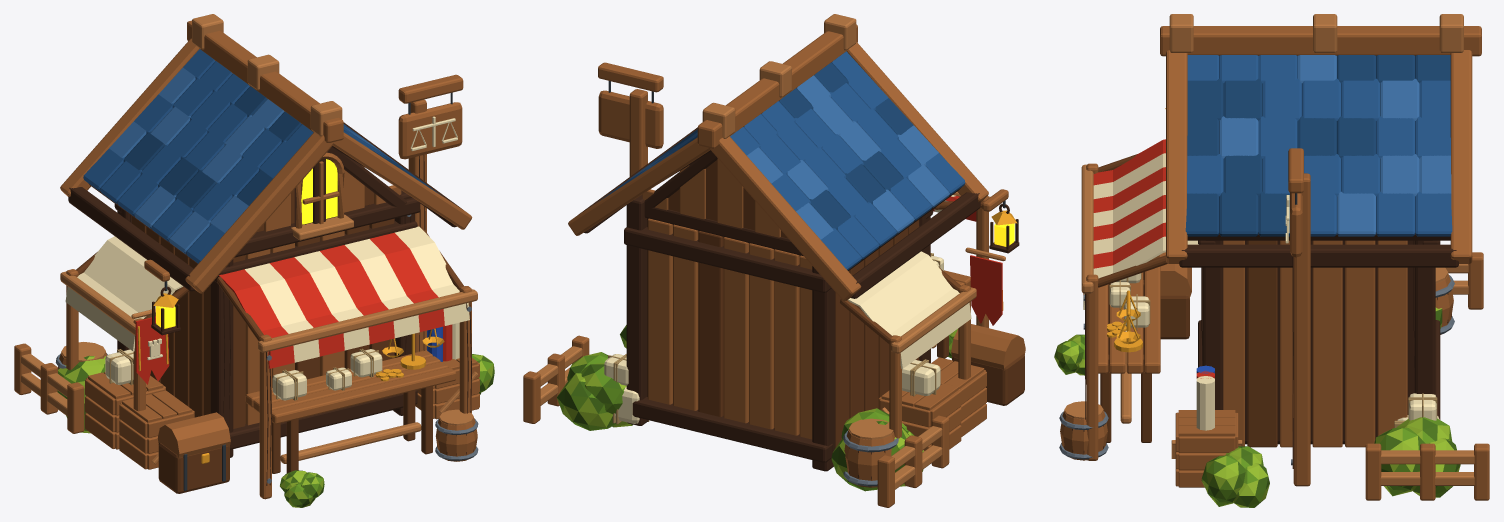
File: trade_market.glb
3 renders of one model, left to right at view 1: azimuth 30°, elevation 25°; view 2: azimuth 150°, elevation 25°; view 3: azimuth 270°, elevation 25°, orthographic. The views are drawn at different scales.
Visible parts, largest first — view 1: Linen work canopy, Carved roof verge, Ridge timber, Corner upright, Roof eave, Awning front beam, Table top plank, Carved roof verge.002, Carved hanging sign, Carved roof verge.001, Canvas canopy stripe.002, Canvas canopy stripe.001 (+90 smaller); view 2: Linen work canopy, Carved roof verge.001, Wall cross beam.003, Wall timber board.003, Wall timber board.009, Wall timber board.005, Wall timber board.007, Wall timber board.013, Wall timber board.011, Wall cross beam.001, Corner upright.001, Ridge timber (+74 smaller); view 3: Ridge timber, Roof eave.001, Side timber board.007, Side timber board.003, Side timber board.009, Side timber board.011, Trade sign post, Carved roof verge.003, Carved roof verge.002, Cottage walls, Side timber board.001, Corner upright.003 (+85 smaller).
Boxes of the visible parts, x1,y1,x2,y2 form: Linen work canopy: (65,236,183,351); Carved roof verge: (185,132,333,293); Ridge timber: (187,20,343,142); Corner upright: (210,259,233,457); Roof eave: (68,187,195,291); Awning front beam: (258,289,477,352); Table top plank: (272,367,456,424); Carved roof verge.002: (333,132,472,229); Carved hanging sign: (398,102,462,159); Carved roof verge.001: (60,38,199,196); Canvas canopy stripe.002: (269,257,344,356); Canvas canopy stripe.001: (245,263,319,362); Linen work canopy: (848,251,971,368); Carved roof verge.001: (710,136,861,301); Wall cross beam.003: (624,227,831,292); Wall timber board.003: (774,249,799,435); Wall timber board.009: (698,231,723,416); Wall timber board.005: (749,243,774,429); Wall timber board.007: (723,237,748,423); Wall timber board.013: (647,218,672,404); Wall timber board.011: (673,224,698,410); Wall cross beam.001: (632,397,832,462); Corner upright.001: (812,266,835,471); Ridge timber: (697,24,857,148); Ridge timber: (1160,26,1481,56); Roof eave.001: (1179,244,1458,267); Side timber board.007: (1312,240,1342,447); Side timber board.003: (1247,240,1277,447); Side timber board.009: (1345,240,1375,447); Side timber board.011: (1377,240,1407,435); Trade sign post: (1293,173,1310,486); Carved roof verge.003: (1450,50,1472,263); Carved roof verge.002: (1166,50,1187,263); Cottage walls: (1245,240,1414,444); Side timber board.001: (1223,240,1244,446); Corner upright.003: (1415,240,1435,394).
Bounding box in the file's own units: 3.99 × 3.71 × 3.61.
